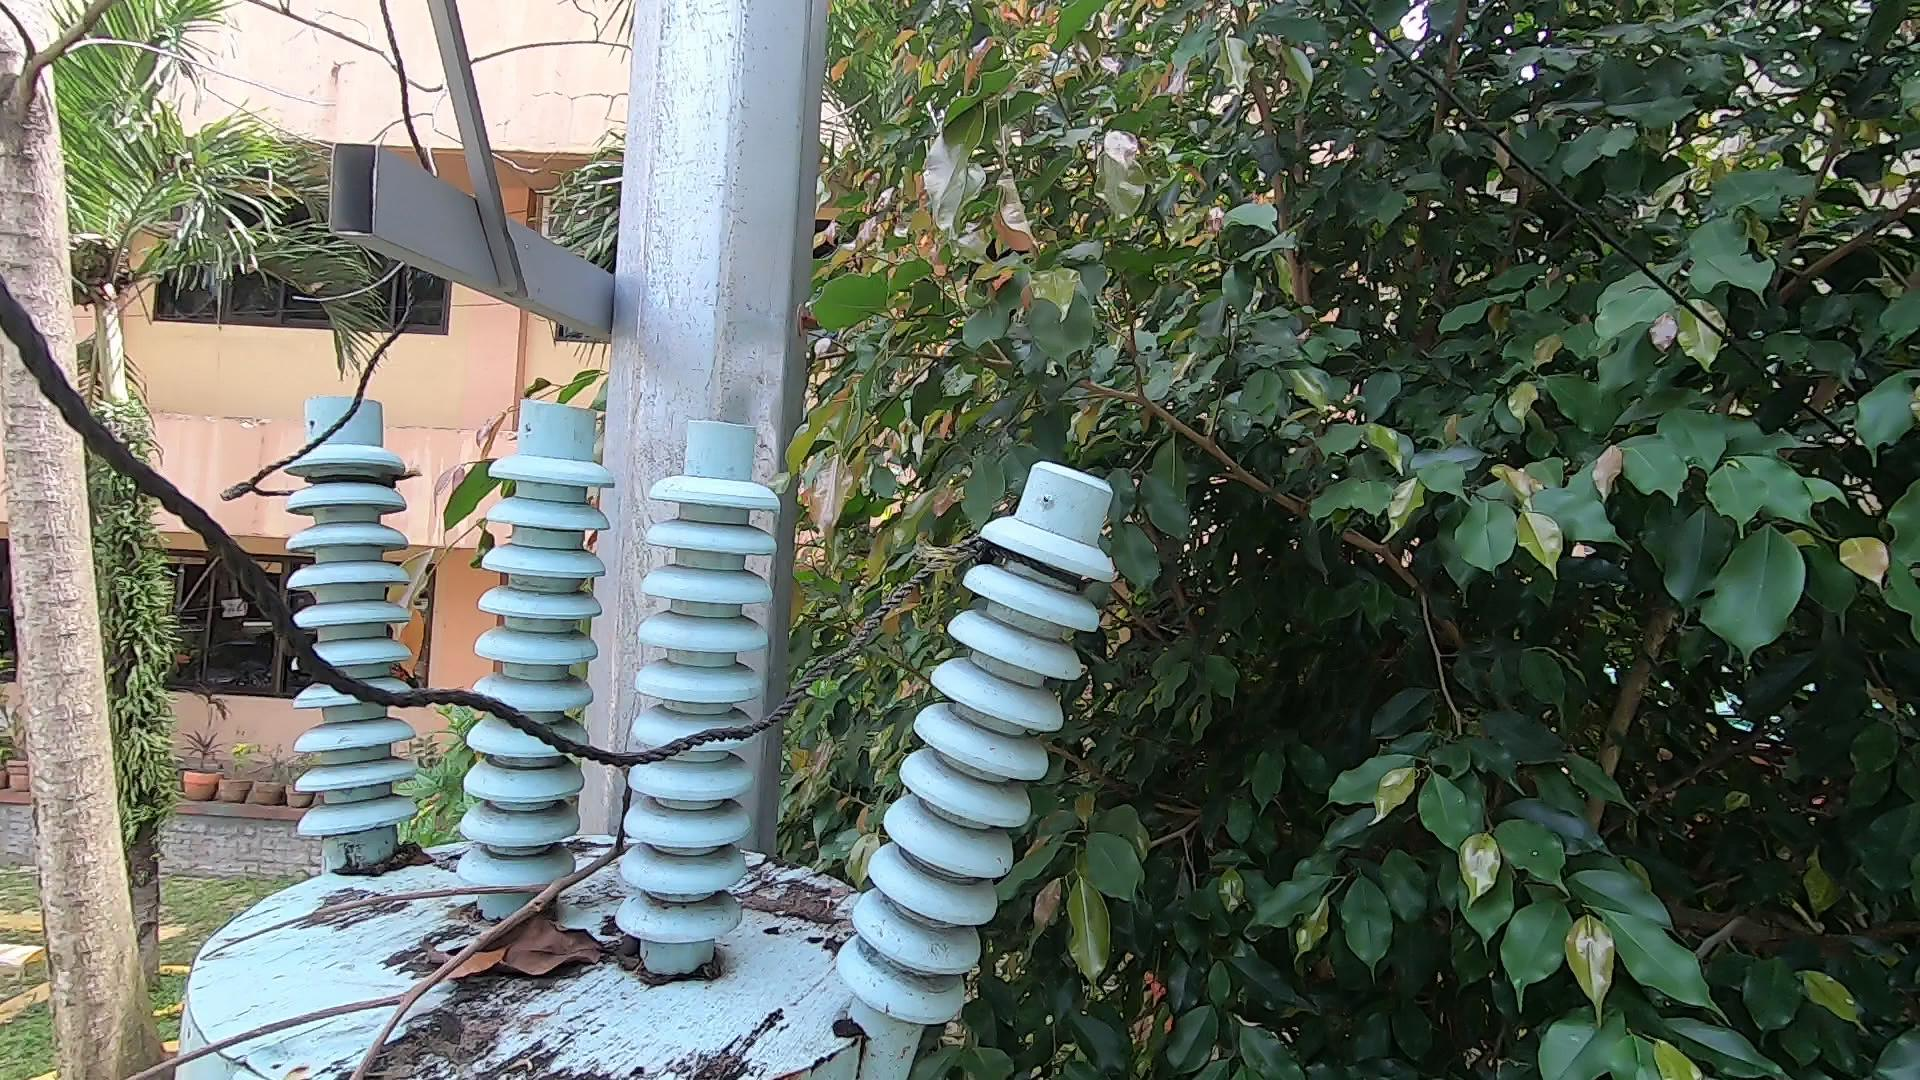leaf: (411, 898, 626, 978), (749, 864, 849, 939), (334, 835, 448, 878)
tree branch: (115, 847, 642, 1080)
